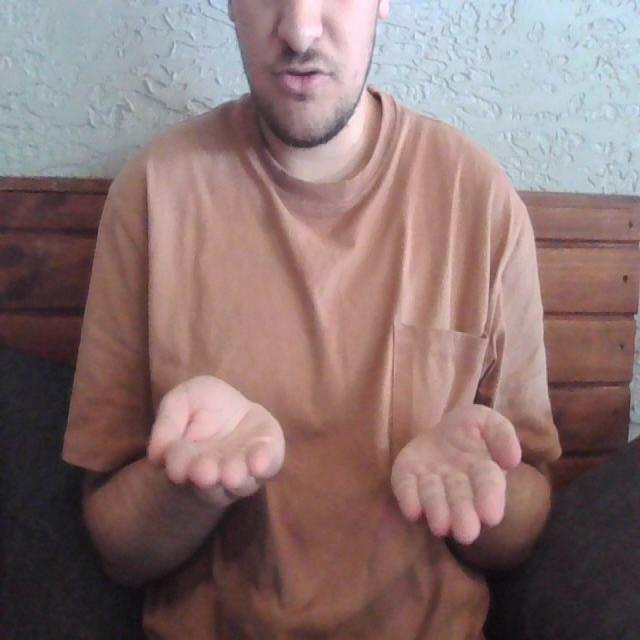Evet: (145, 369, 526, 550)
